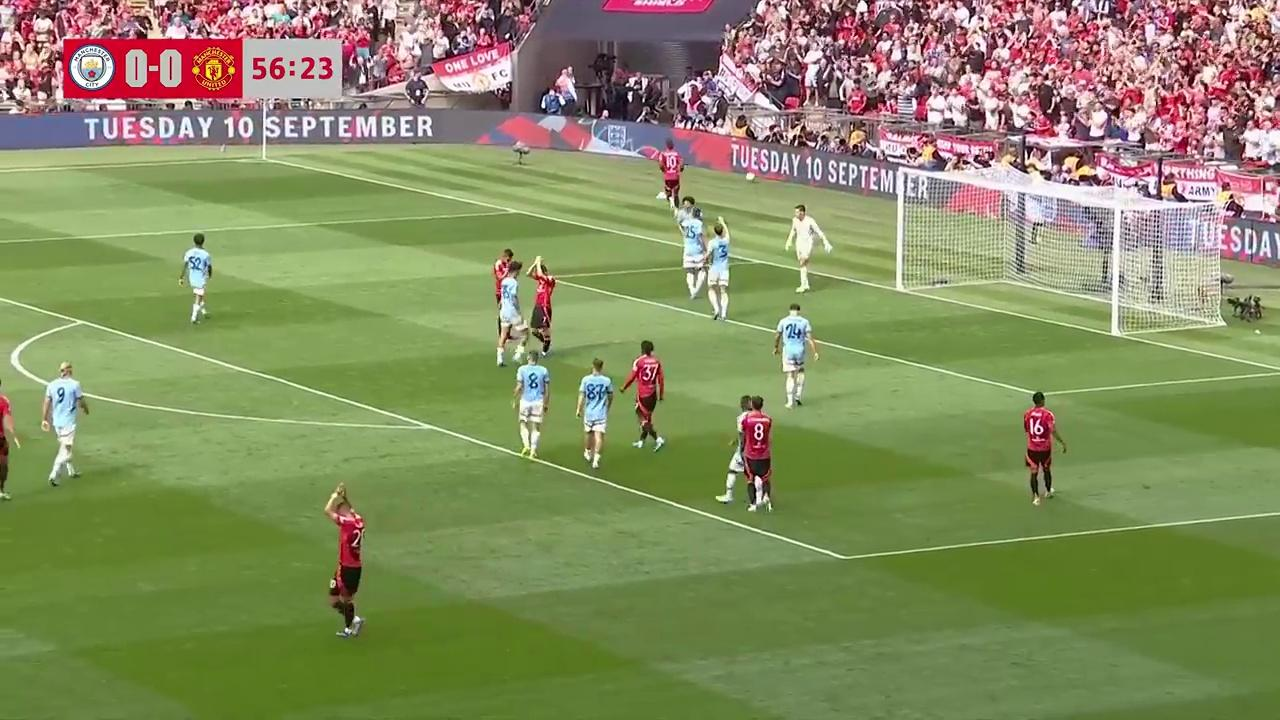ball: (656, 187, 668, 202)
player: (325, 483, 365, 637), (46, 355, 91, 488), (714, 392, 761, 504), (620, 340, 665, 451), (1023, 392, 1065, 507), (772, 304, 817, 408), (511, 352, 549, 459), (576, 358, 614, 464), (740, 396, 774, 512), (785, 204, 825, 292), (495, 261, 528, 367), (493, 247, 524, 351), (679, 200, 711, 298), (180, 237, 212, 324), (526, 259, 555, 354), (0, 379, 21, 501), (706, 225, 730, 322), (658, 140, 683, 215)
